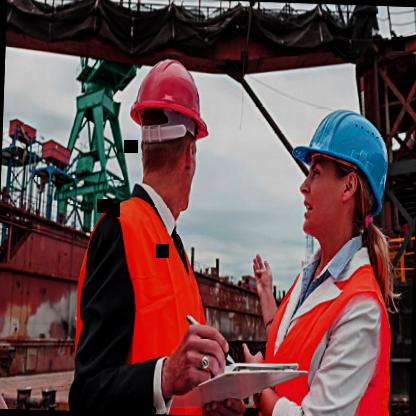helmet: (292, 90, 400, 257), (121, 46, 214, 211)
